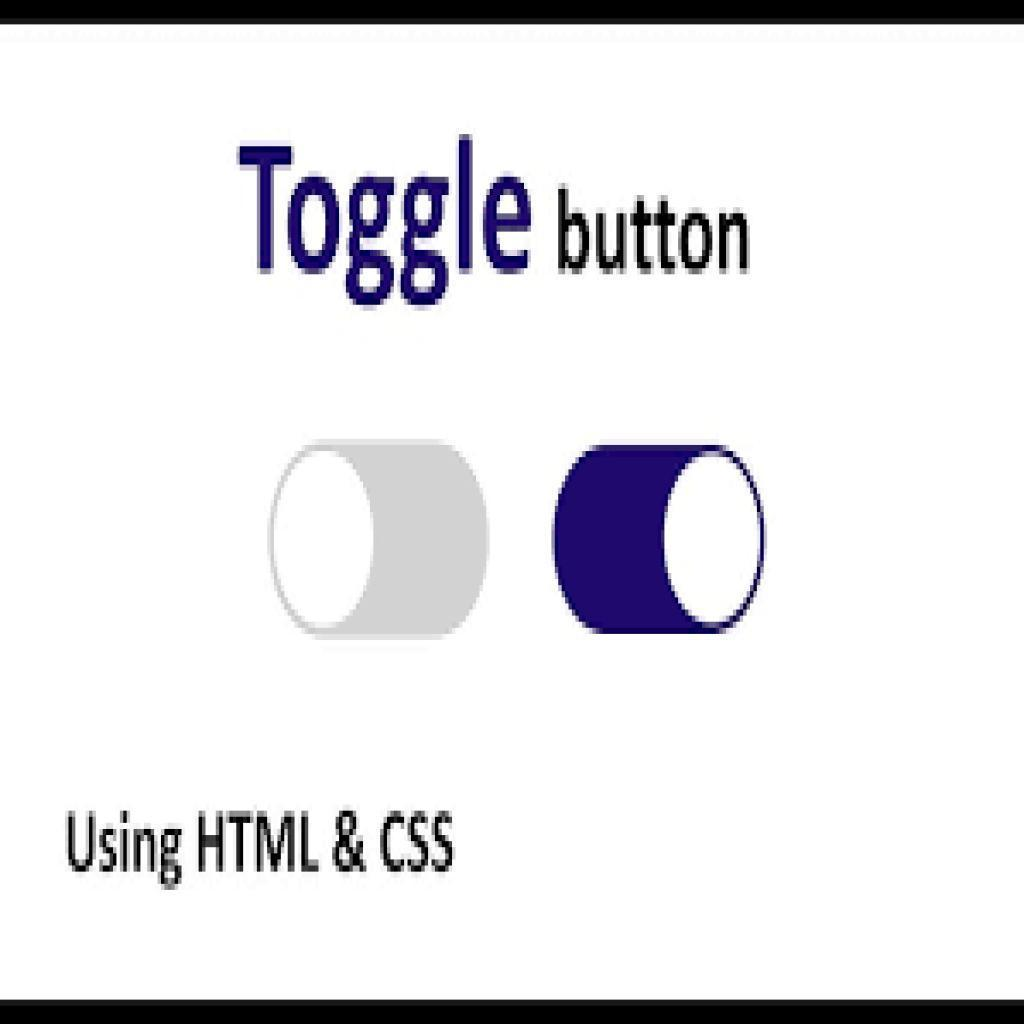switch: (262, 442, 489, 651), (544, 440, 777, 640)
